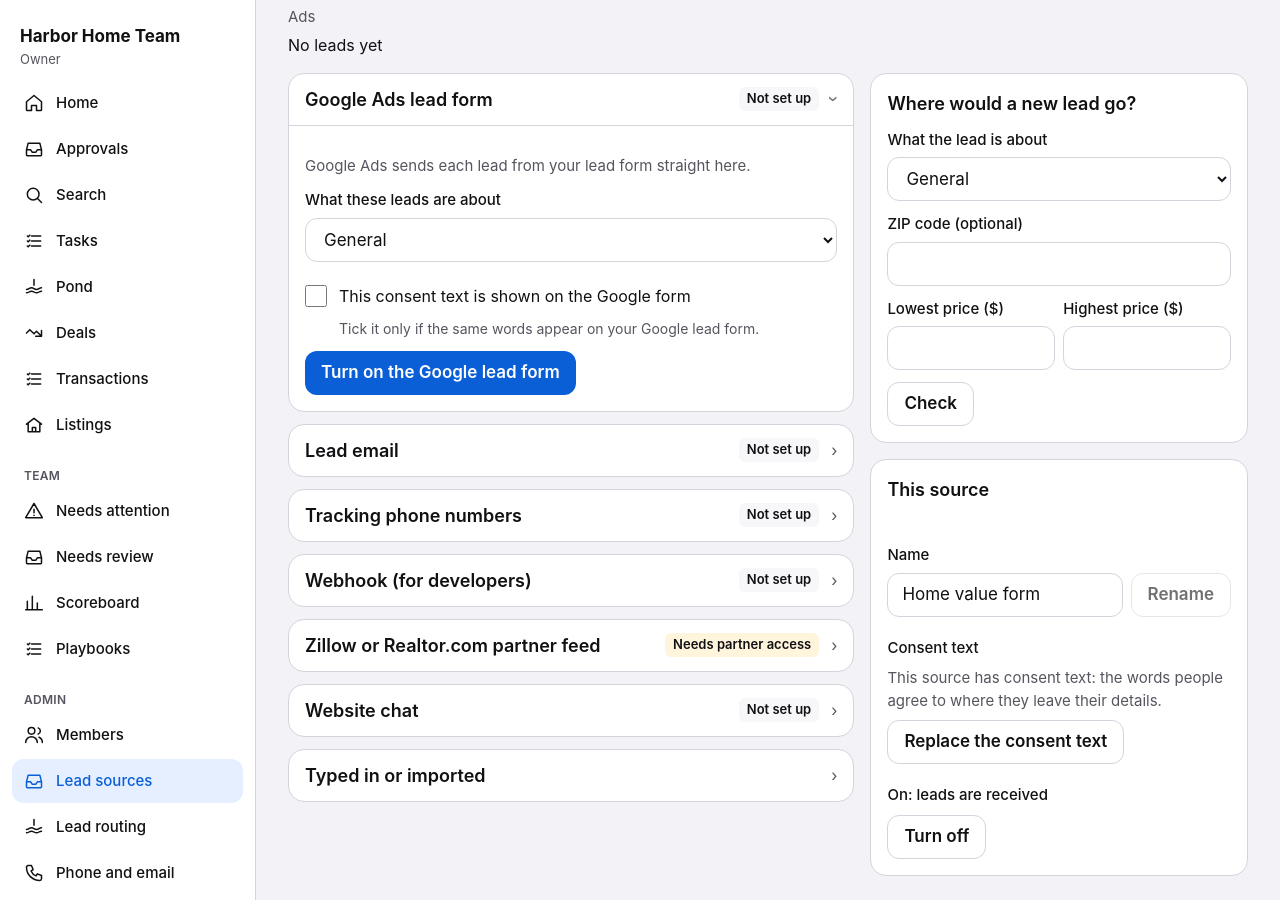
it: A lead source: Google Ads lead form › ?setup=google puts the Google path first and open; turning it on sends the inquiry type and the consent choice (after re-auth), then shows the URL and key to co
The image size is (1280, 900).
(page scrolled)
Select "Home value" in the dropdown labelled "What these leads are about" at (571, 240), box left=305, top=218, right=837, bottom=262
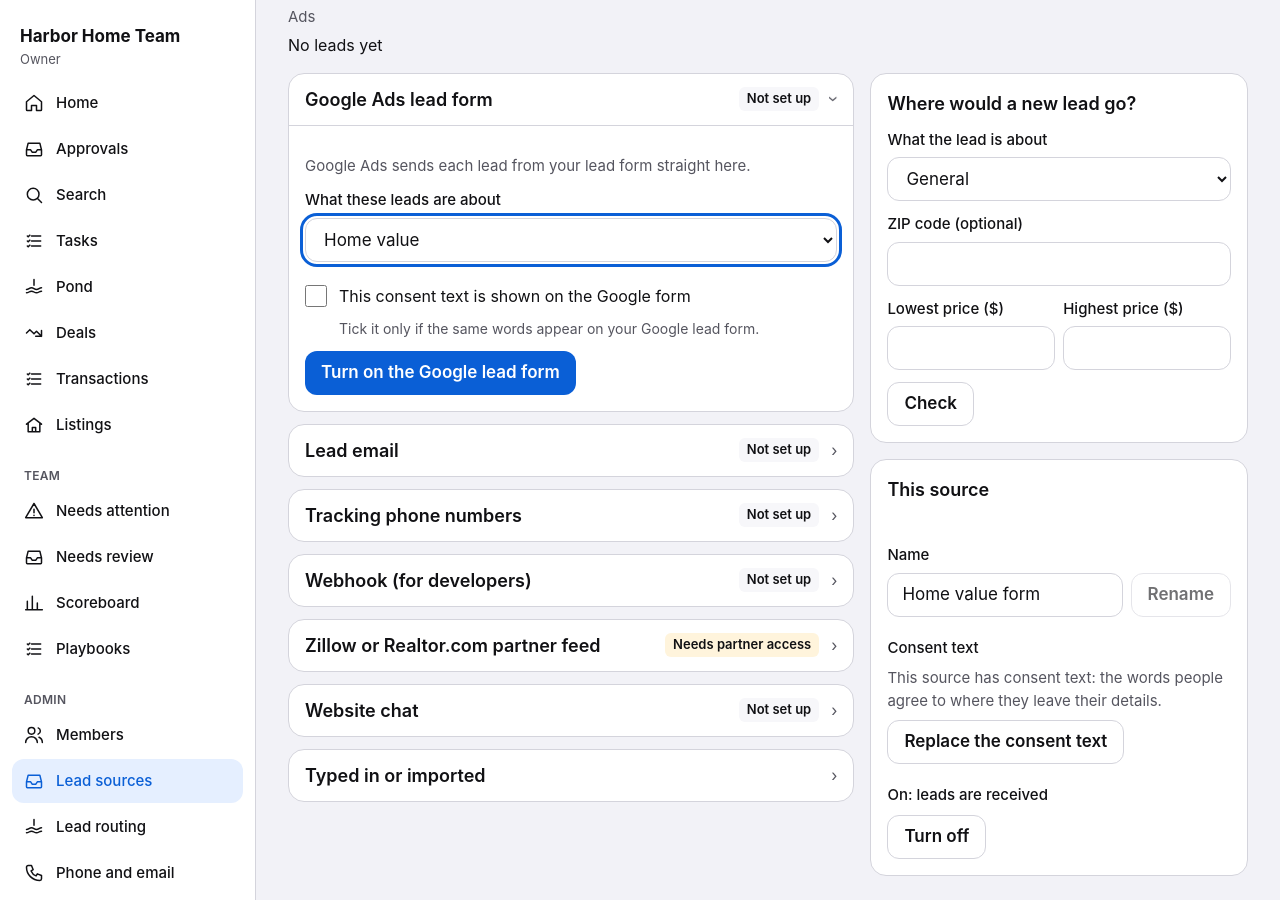
Click the checkbox labelled "This consent text is shown on the Google form".
click(316, 296)  # box left=305, top=284, right=327, bottom=306
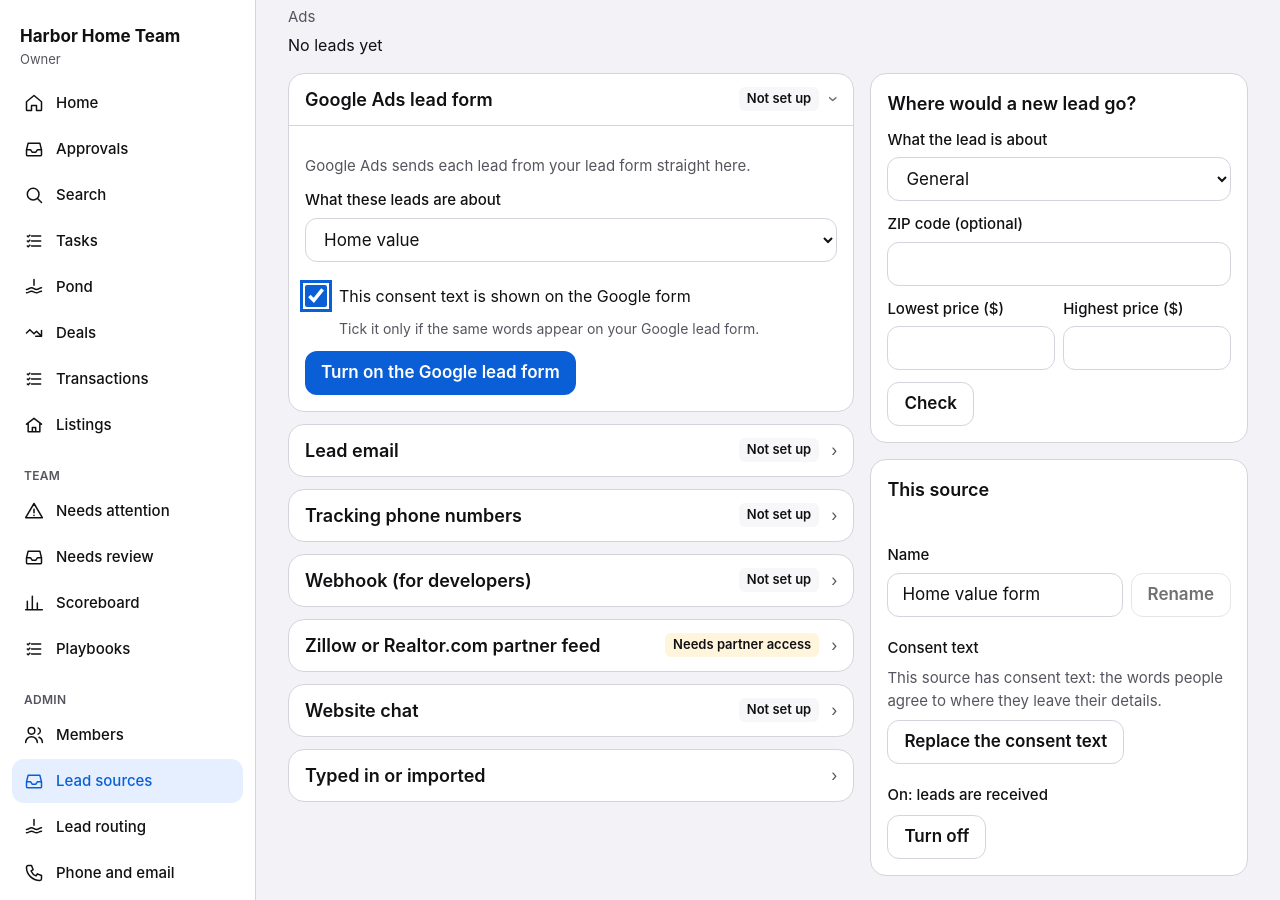
Click the button "Turn on the Google lead form".
click(440, 372)  # box left=305, top=350, right=576, bottom=394
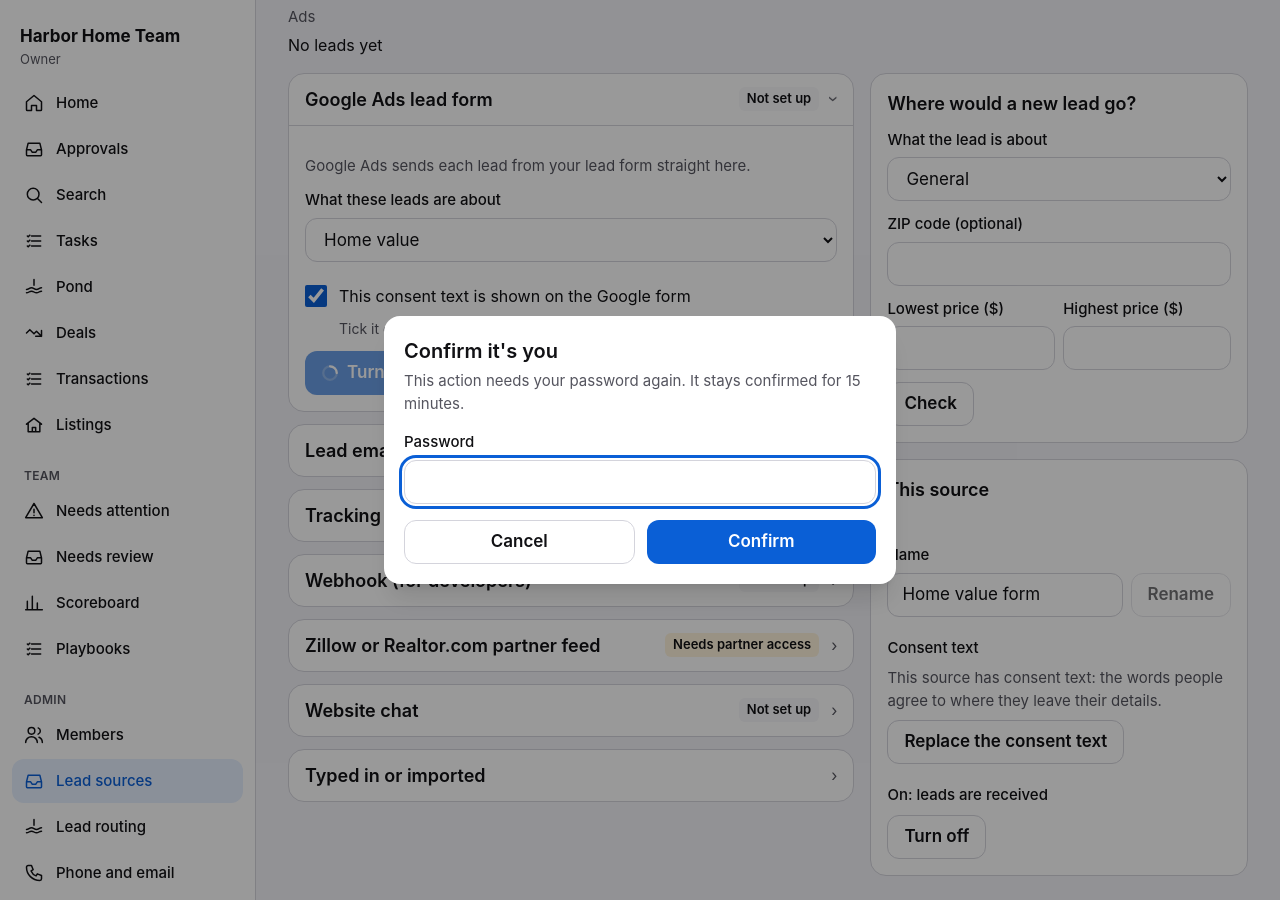
Type "correct horse" into the password field labelled "Password".
click(640, 482); type("correct horse")  # box left=404, top=460, right=876, bottom=504
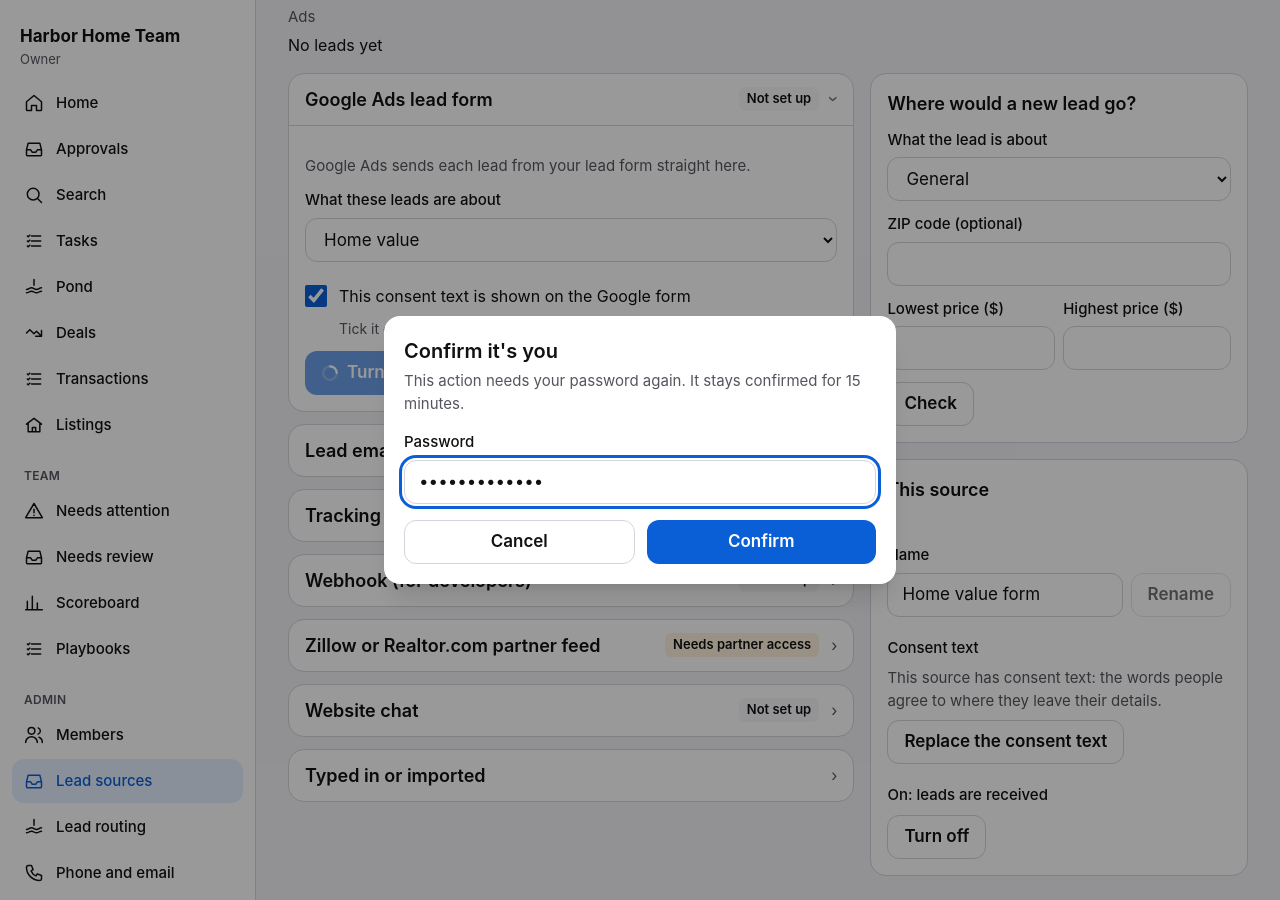
Click the button "Confirm".
click(761, 542)  # box left=646, top=520, right=876, bottom=564
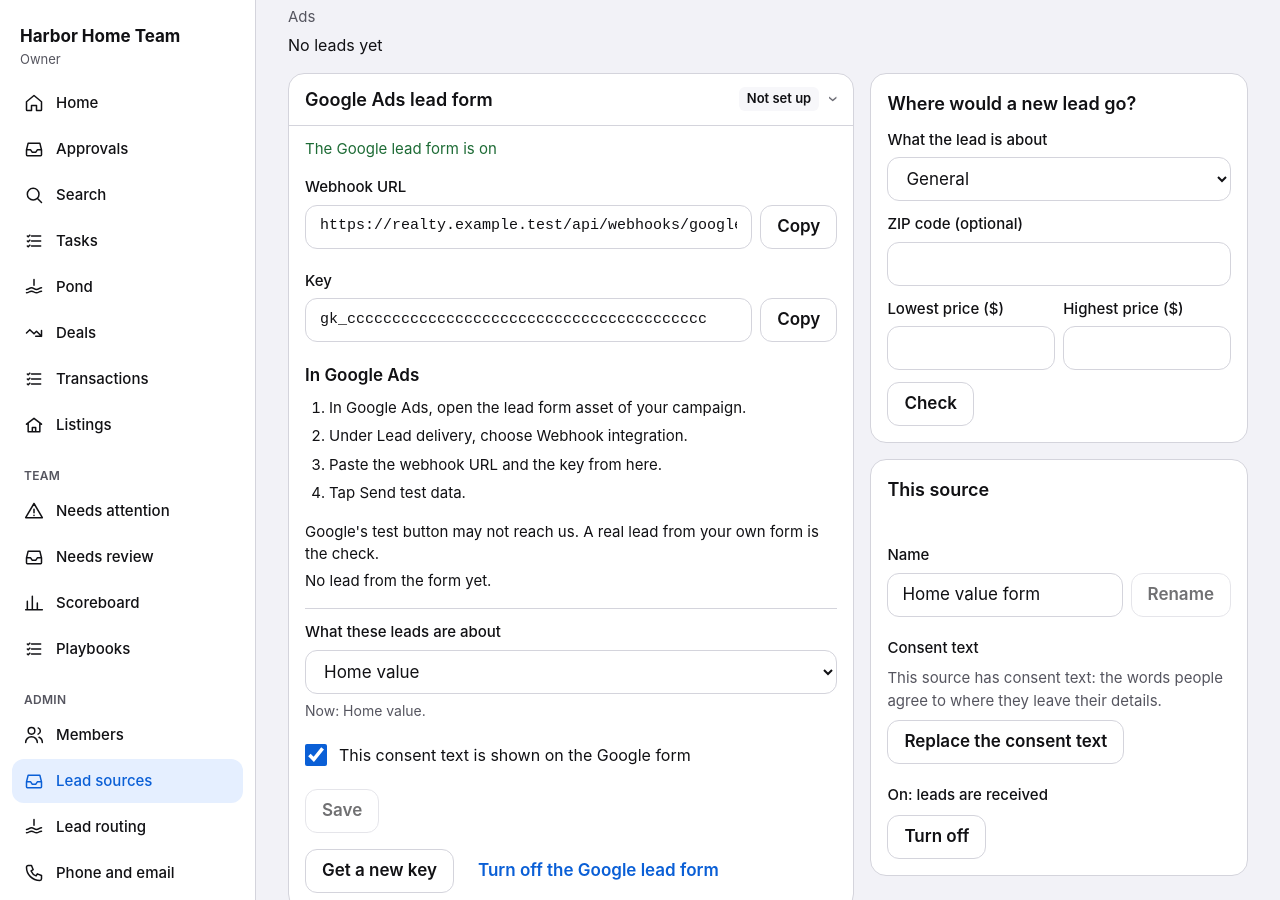
Expected: the field labelled "Webhook URL" holds "https://realty.example.test/api/webhooks/google-lead-form", left=305, top=204, right=752, bottom=248
Expected: the button with aria-label "Copy the key" is shown, left=760, top=298, right=837, bottom=342
Expected: the button with aria-label "Copy the webhook url" is shown, left=760, top=204, right=837, bottom=248
